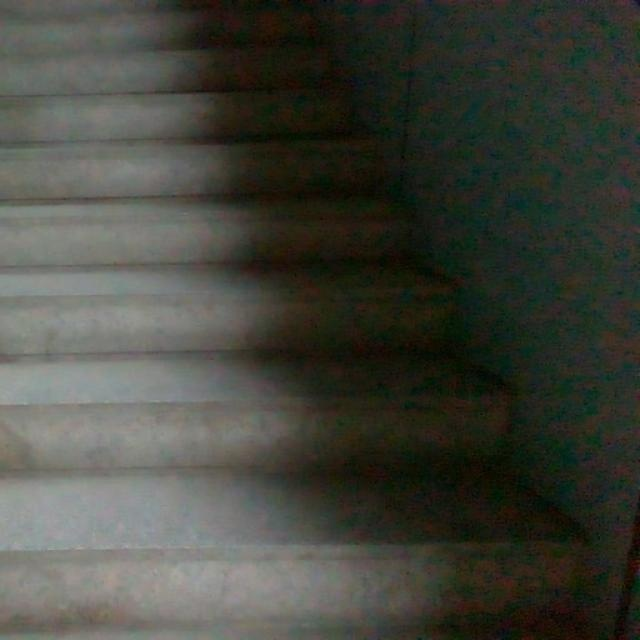stair: (0, 0, 562, 621)
